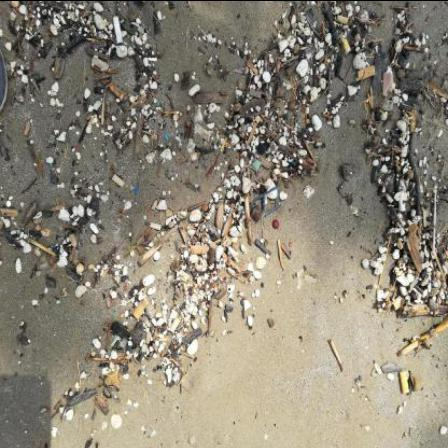Cigarette: (340, 33, 353, 55), (359, 67, 377, 81), (434, 193, 438, 255), (401, 371, 411, 394), (400, 192, 407, 212), (338, 16, 350, 25)
Other plastic: (114, 16, 124, 44), (384, 73, 395, 96), (253, 159, 262, 173), (112, 337, 120, 348), (327, 29, 331, 35), (121, 315, 127, 319), (134, 189, 138, 193), (292, 162, 295, 166), (167, 136, 169, 141), (240, 127, 242, 132)
Unlabeled litter: (255, 187, 283, 217)
